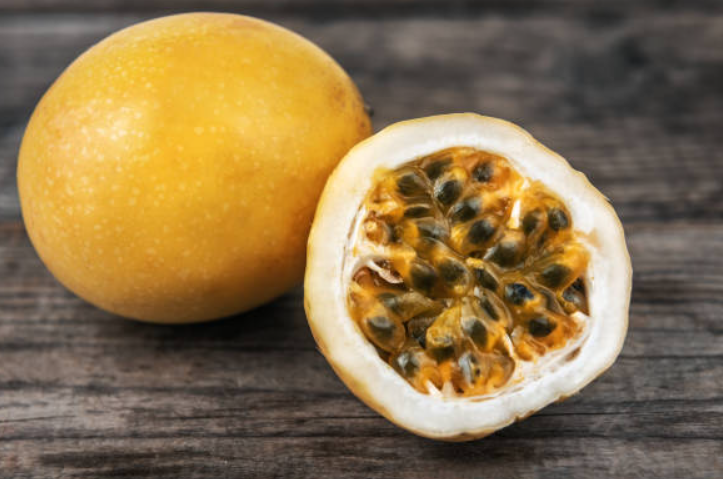maracuya: (16, 8, 384, 331)
